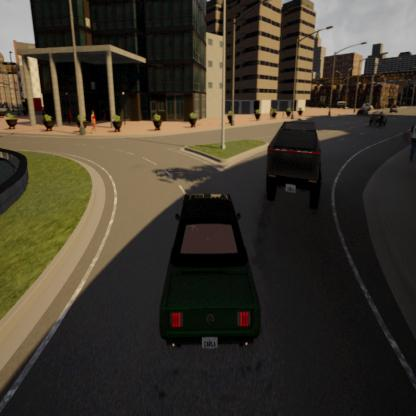Cars: (151, 176, 269, 375), (267, 93, 320, 230), (368, 106, 388, 134), (355, 101, 375, 124), (388, 100, 400, 116)
Pedestrian: (86, 107, 100, 140), (407, 116, 416, 166)
